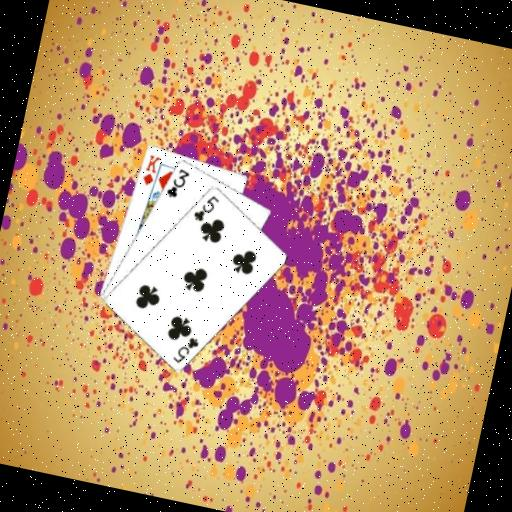3C: (162, 163, 192, 201)
5C: (189, 189, 222, 226), (169, 330, 202, 367)
KD: (138, 150, 163, 188)
